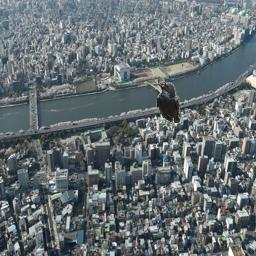Crow: (156, 82, 180, 124)
